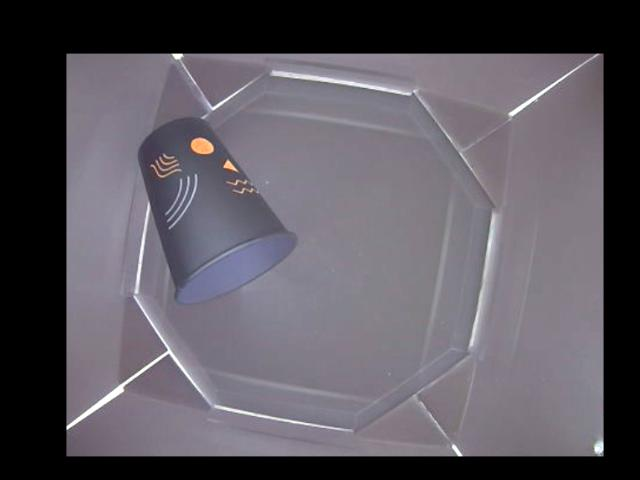Cup: (133, 114, 294, 300)
